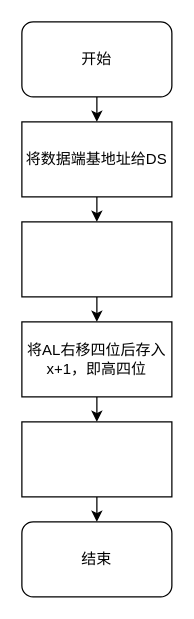
The diagram is 194 pixels wide and 619 high, and some of its shapes have lost their labels. Each missing label, with the box of its shape:
将AH与0FH相与，即高四位置零，存入x+2: (21, 421, 172, 497)
将X赋值给AH,和AL 一个用来计算高4位，另一个用来计算低4位: (21, 221, 172, 297)
